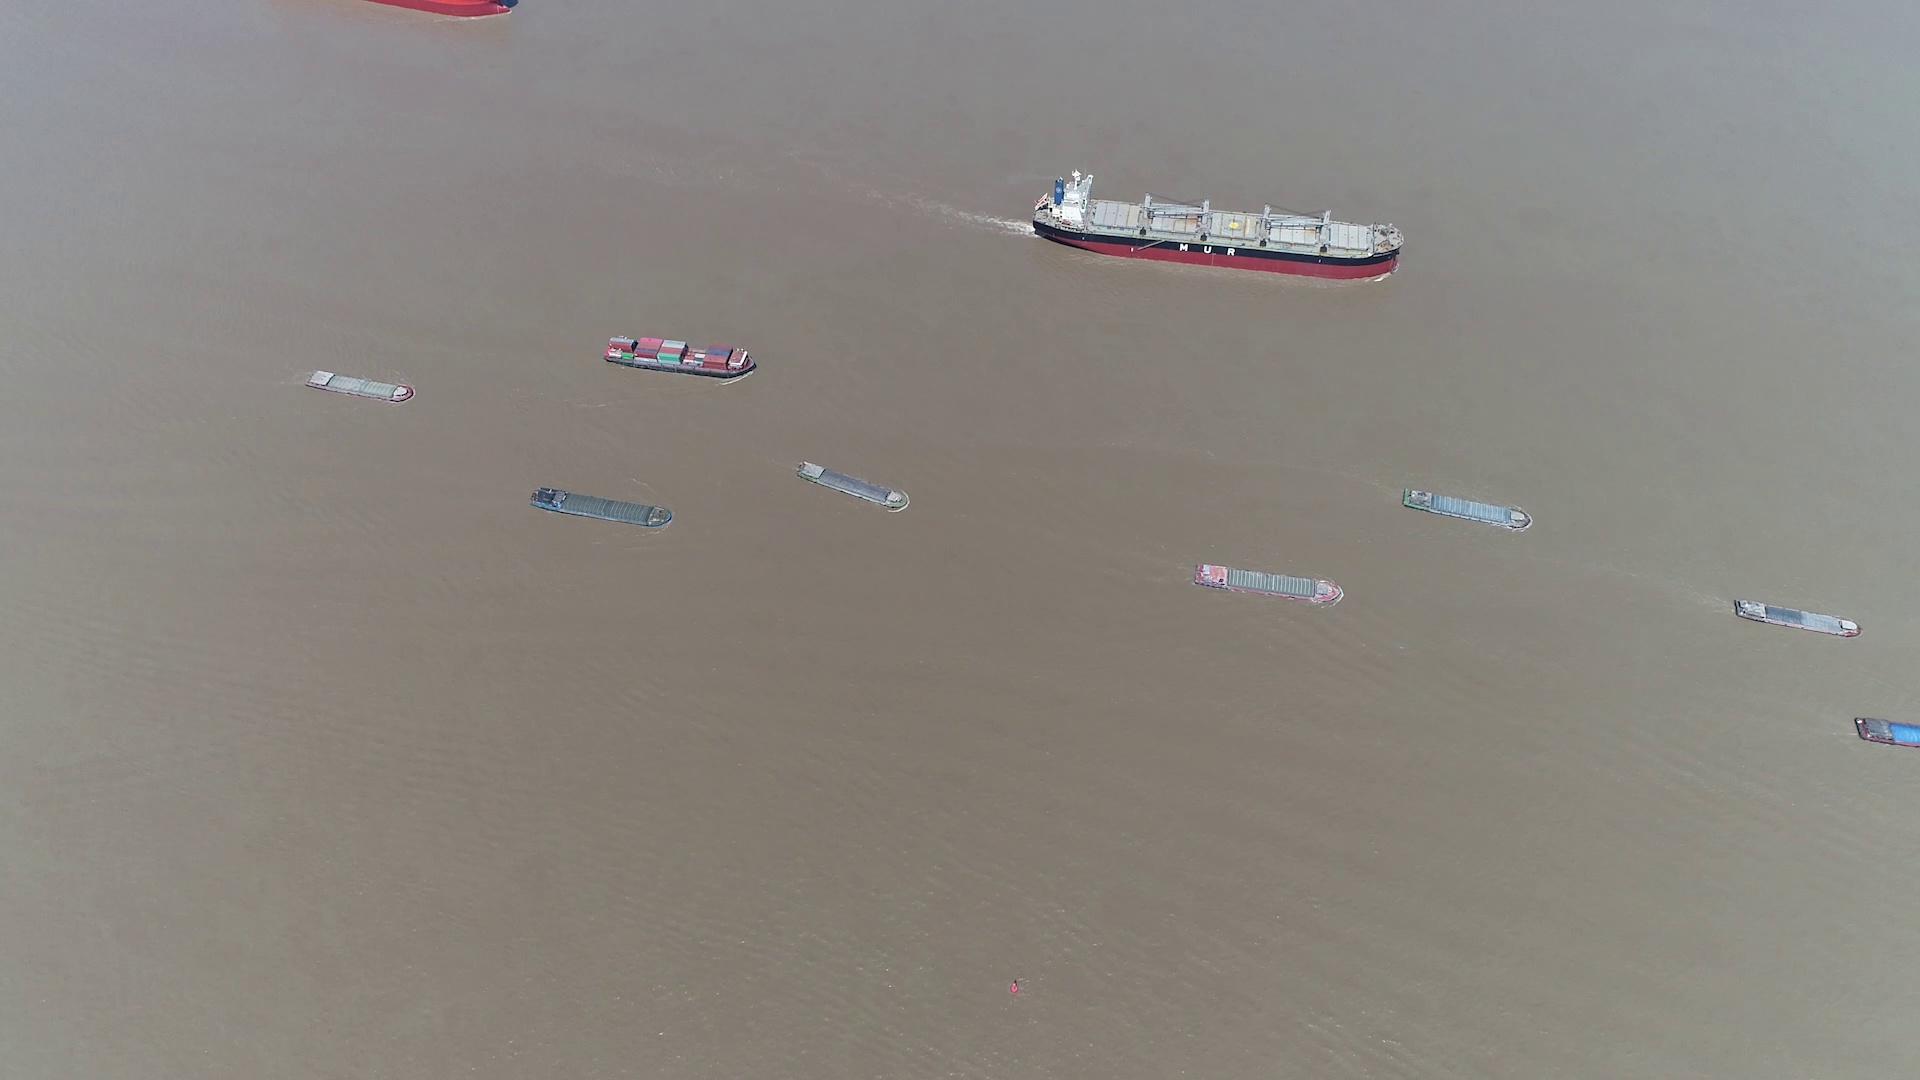ship: (1036, 174, 1404, 278), (605, 336, 758, 378), (1192, 564, 1346, 605), (533, 487, 674, 529), (798, 463, 913, 513), (1402, 488, 1534, 531), (1733, 596, 1861, 637), (306, 369, 415, 401), (1854, 717, 1920, 750)
